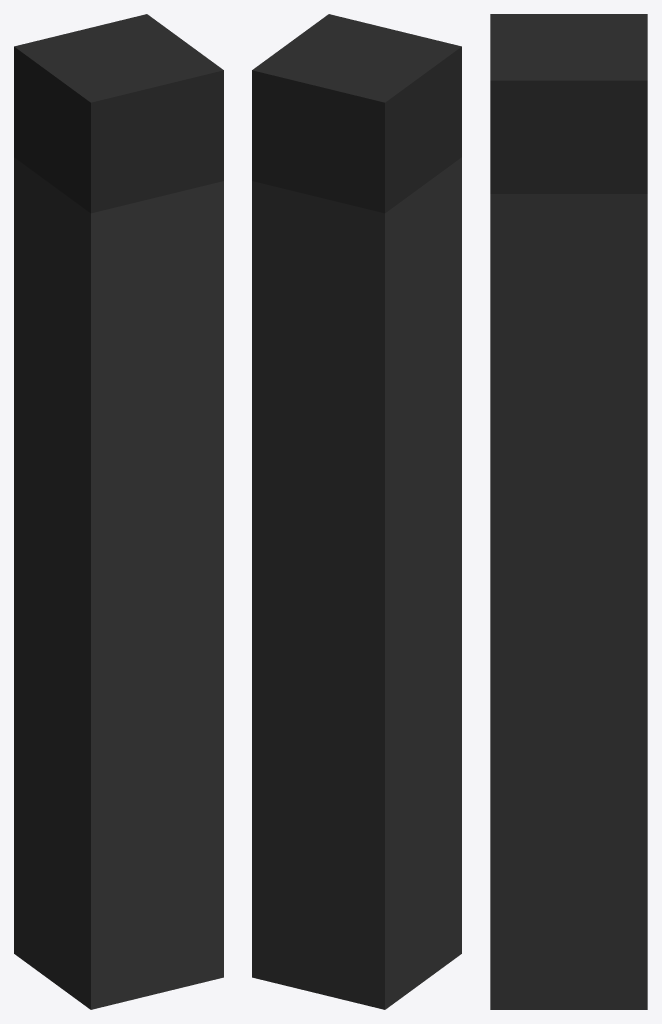
Rendered from SM_Pillar.fbx.
3 views of the same model, side by side, from view 1: azimuth 30°, elevation 25°; view 2: azimuth 150°, elevation 25°; view 3: azimuth 270°, elevation 25° (orthographic). The views are drawn at different scales.
Visible parts, largest first — view 1: SM_Pillar; view 2: SM_Pillar; view 3: SM_Pillar.
Part boxes in pixels (x1,y1,x2,y2): SM_Pillar: [14, 14, 223, 1009]; SM_Pillar: [252, 14, 461, 1009]; SM_Pillar: [490, 14, 647, 1009].
Size of the model in its own units: 46.99 by 306 by 46.99.
